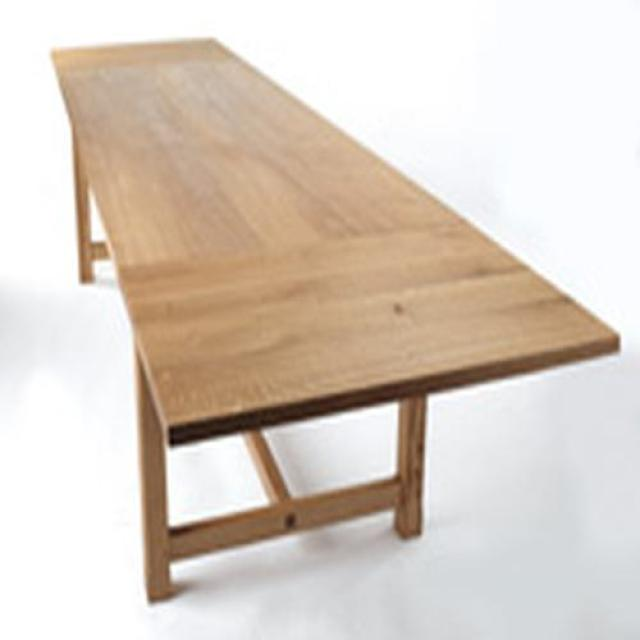table: (47, 37, 622, 607)
